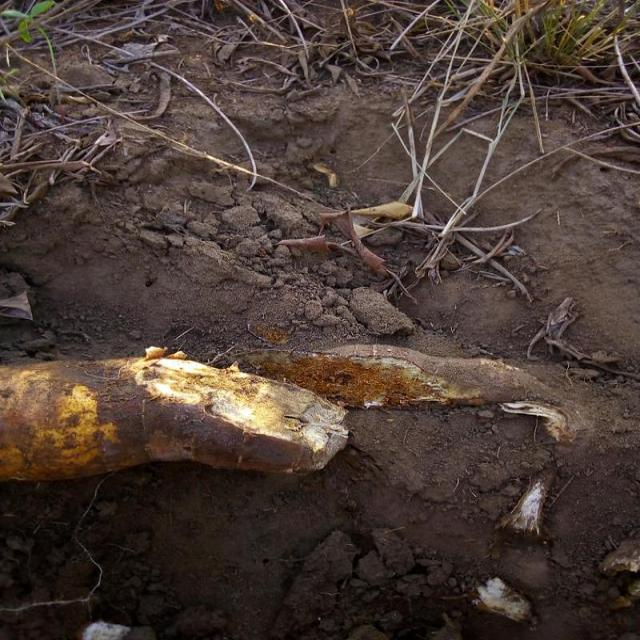cassava leaf: (0, 345, 350, 483)
